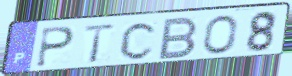8: (244, 10, 279, 54)
B: (156, 15, 201, 62)
C: (118, 20, 160, 61)
O: (202, 14, 239, 56)
P: (34, 25, 77, 69)
T: (82, 22, 118, 65)
